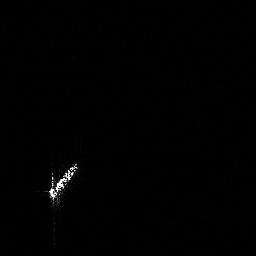ship: (42, 157, 82, 208)
